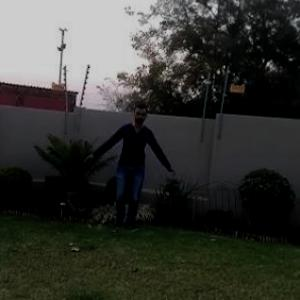land: (79, 103, 186, 244)
